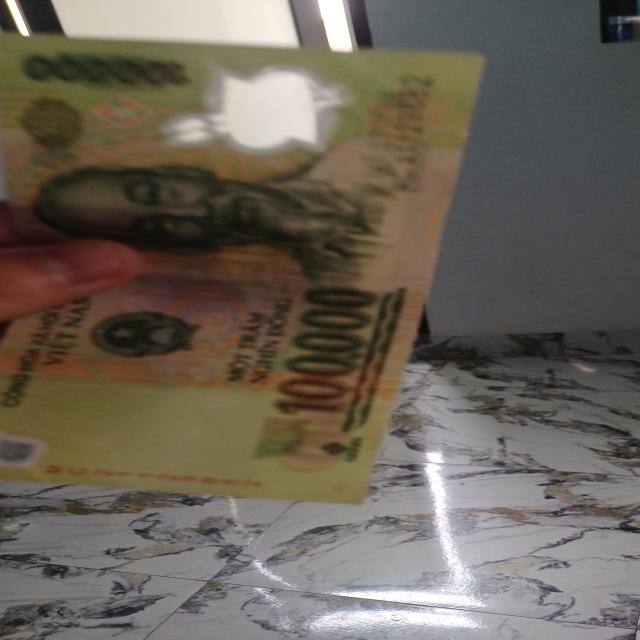100 000 VND: (1, 25, 490, 507)
